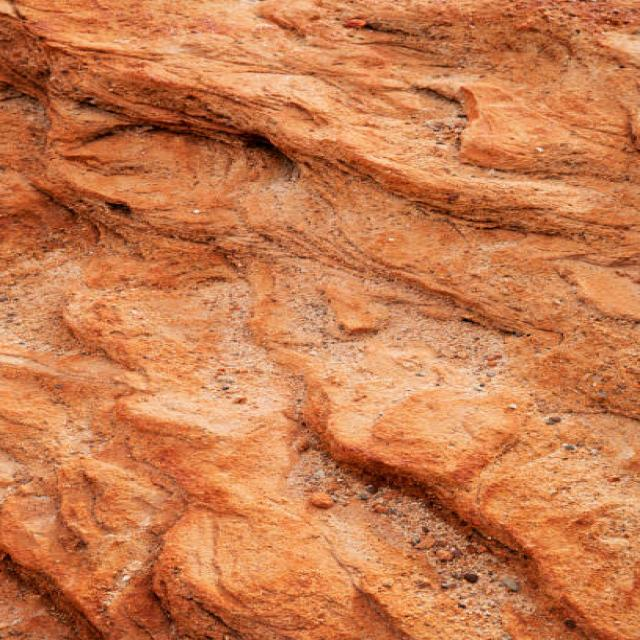Sedimentary: (1, 1, 637, 637)
